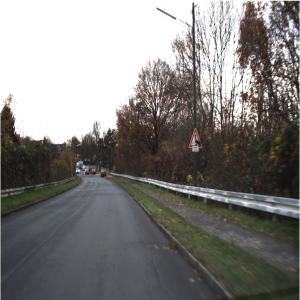DANGER: (189, 128, 203, 149)
